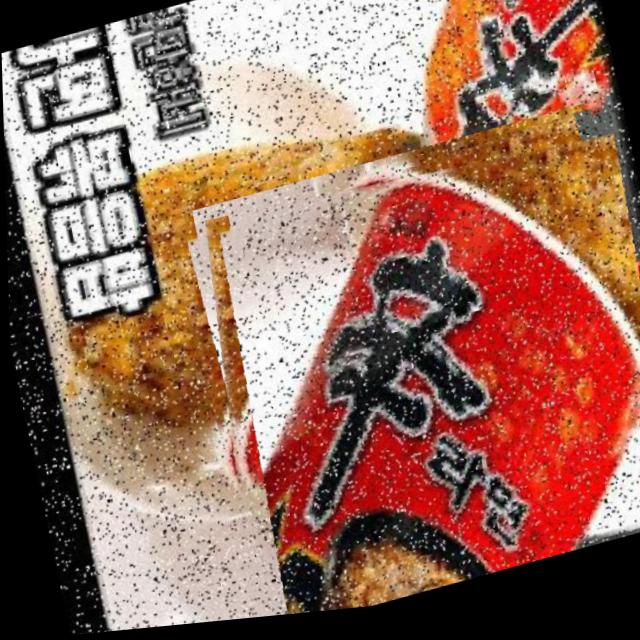Miscellaneous: (167, 118, 640, 628)
